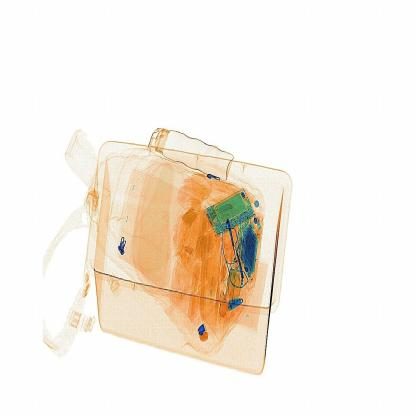wrench: (192, 322, 211, 351)
